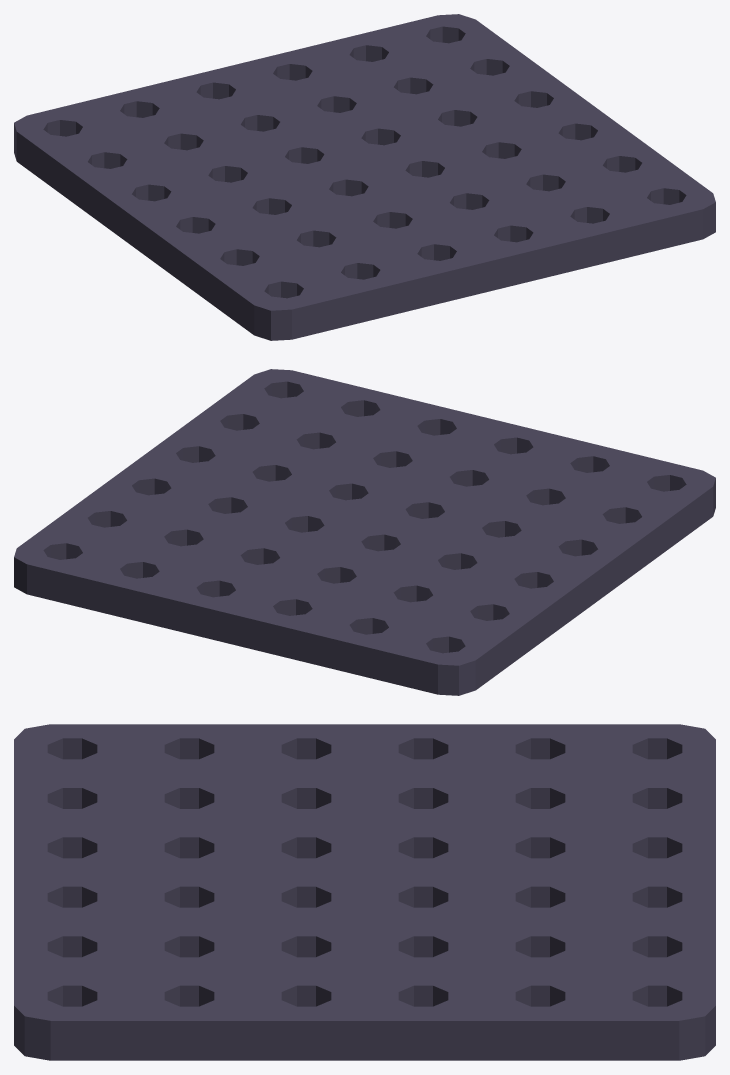
The model's file is Trap_Empty_GD.glb.
3 renders of one model, top to bottom at view 1: azimuth 30°, elevation 25°; view 2: azimuth 150°, elevation 25°; view 3: azimuth 270°, elevation 25°, orthographic. The views are drawn at different scales.
Parts seen in each view (by area): view 1: Trap_empty; view 2: Trap_empty; view 3: Trap_empty.
Part boxes in pixels (x1,y1,x2,y2): Trap_empty: [14, 14, 715, 340]; Trap_empty: [14, 369, 715, 695]; Trap_empty: [14, 724, 715, 1060].
Bounding box in the file's own units: 14.92 × 0.9361 × 14.92.
